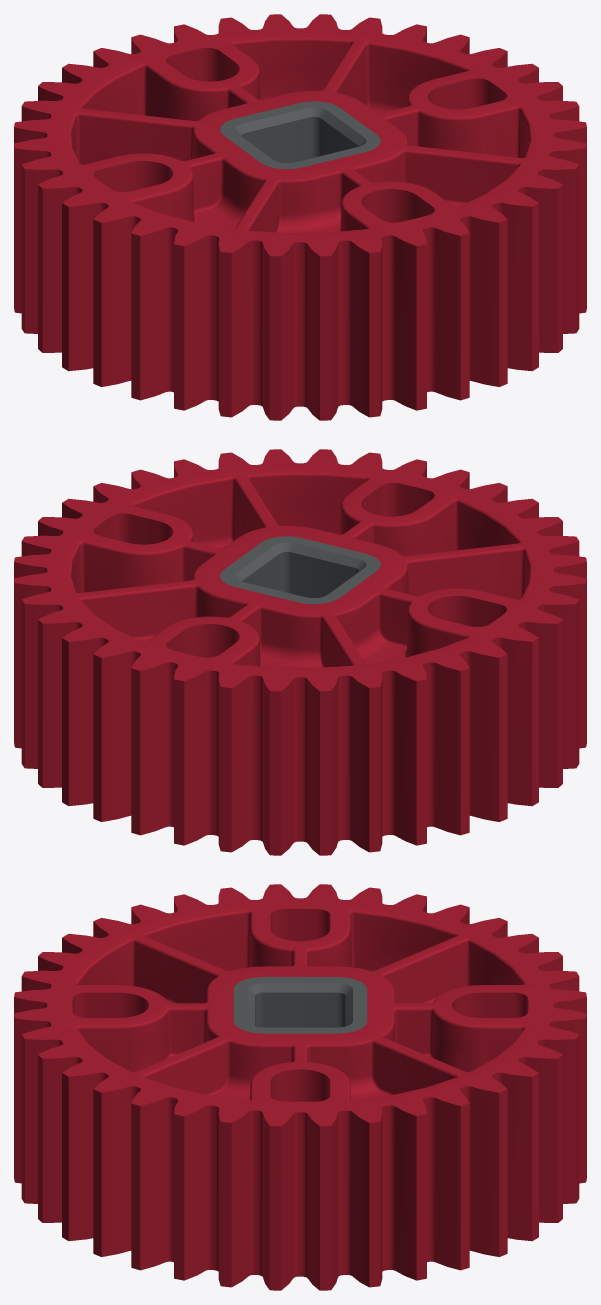
Rendered from 36t-high-strength-gear-v2-8-pack.glb.
3 views of the same model, one above another, from view 1: azimuth 30°, elevation 25°; view 2: azimuth 150°, elevation 25°; view 3: azimuth 270°, elevation 25° (orthographic).
Visible parts, largest first — view 1: 276-7747-001_OVERMOLD Rev3_36T 24DP Gear Rev1, 276-7573-002 Rev7; view 2: 276-7747-001_OVERMOLD Rev3_36T 24DP Gear Rev1, 276-7573-002 Rev7; view 3: 276-7747-001_OVERMOLD Rev3_36T 24DP Gear Rev1, 276-7573-002 Rev7.
Boxes of the visible parts, left/top/right/bottom form: 276-7747-001_OVERMOLD Rev3_36T 24DP Gear Rev1: left=14, top=14, right=586, bottom=420; 276-7573-002 Rev7: left=220, top=101, right=380, bottom=169; 276-7747-001_OVERMOLD Rev3_36T 24DP Gear Rev1: left=14, top=449, right=586, bottom=855; 276-7573-002 Rev7: left=220, top=536, right=380, bottom=604; 276-7747-001_OVERMOLD Rev3_36T 24DP Gear Rev1: left=14, top=884, right=586, bottom=1290; 276-7573-002 Rev7: left=233, top=977, right=367, bottom=1033.
Bounding box in the file's own units: 0.0401 × 0.0127 × 0.0401.
